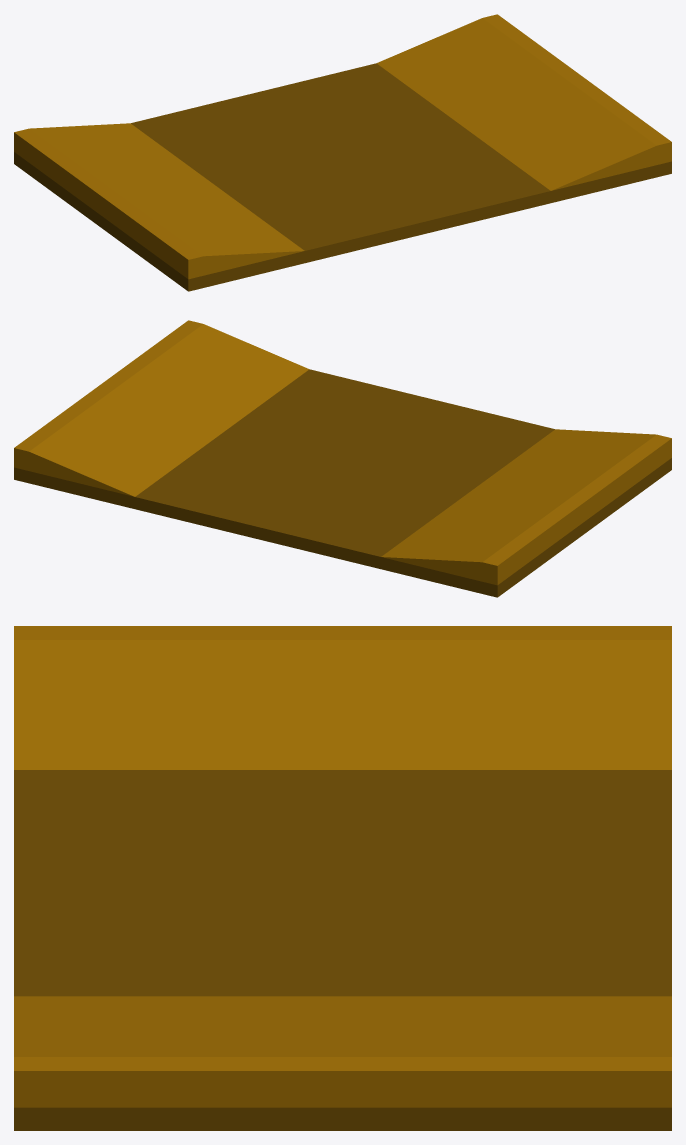
The model's file is RoadPathStraight.fbx.
The picture shows the model from 3 angles, top to bottom: view 1: azimuth 30°, elevation 25°; view 2: azimuth 150°, elevation 25°; view 3: azimuth 270°, elevation 25°; orthographic projection. The views are drawn at different scales.
Visible parts, largest first — view 1: RoadPathStraight; view 2: RoadPathStraight; view 3: RoadPathStraight.
Boxes of the visible parts, x1,y1,x2,y2 form: RoadPathStraight: [14, 14, 671, 291]; RoadPathStraight: [14, 320, 671, 597]; RoadPathStraight: [14, 626, 671, 1130].
Bounding box in the file's own units: 640 × 40.16 × 400.
